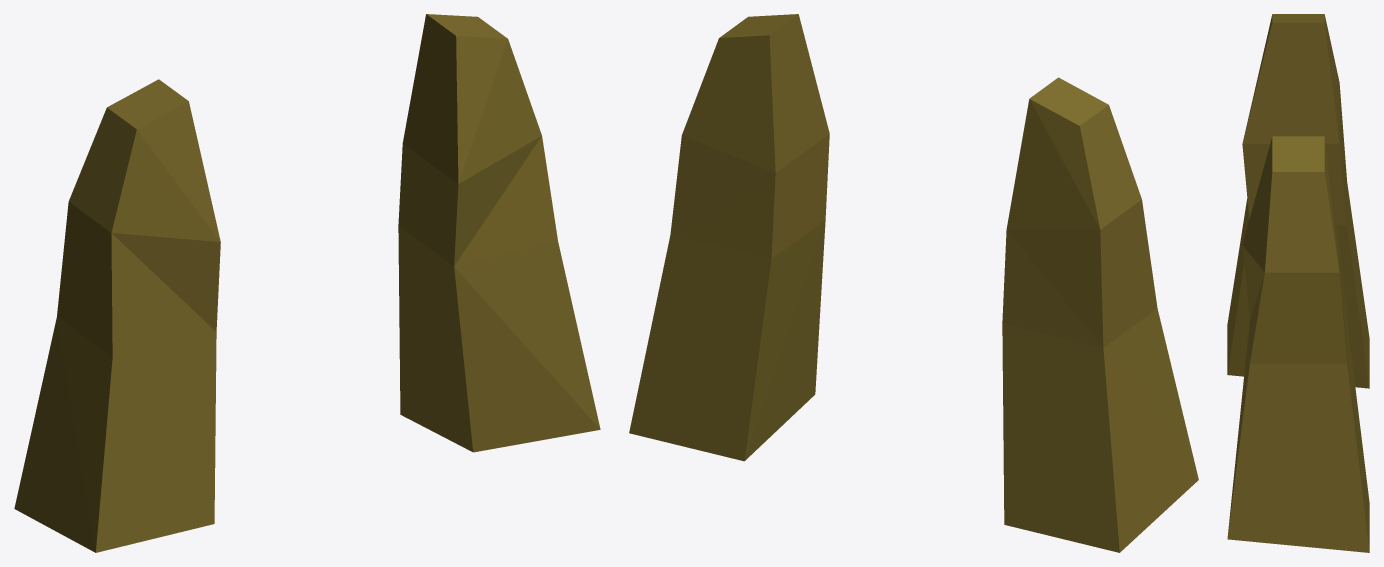
File: model_348_idk.obj
3 renders of one model, left to right at view 1: azimuth 30°, elevation 25°; view 2: azimuth 150°, elevation 25°; view 3: azimuth 270°, elevation 25°, orthographic. The views are drawn at different scales.
Parts seen in each view (by area): view 1: 348; view 2: 348; view 3: 348.
Part boxes in pixels (bbox=[...]): 348: bbox=[14, 14, 600, 552]; 348: bbox=[629, 14, 1198, 552]; 348: bbox=[1227, 14, 1369, 552].
Size of the model in its own units: 68 by 54 by 19.
